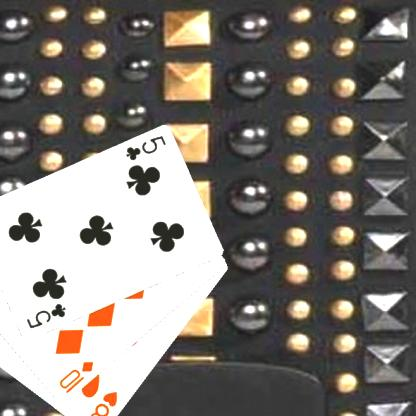10D: (56, 359, 95, 395)
5C: (23, 301, 67, 331), (123, 133, 167, 162)
8H: (85, 389, 119, 416)
